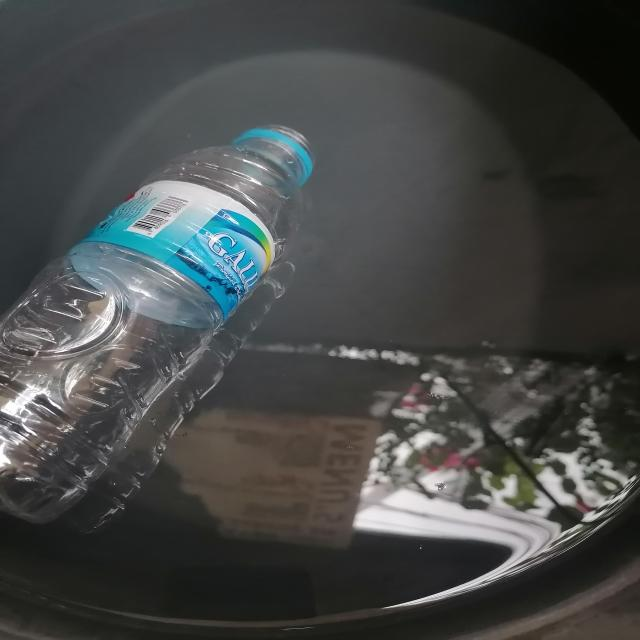Plastic Bottle: (0, 100, 339, 526)
